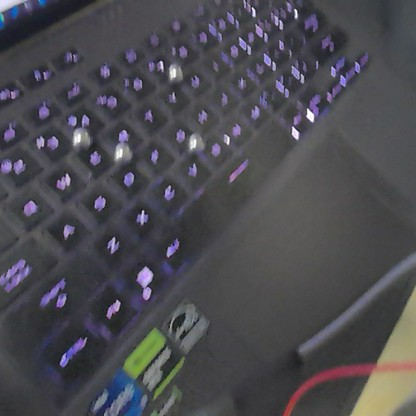ironball: (68, 126, 94, 153), (110, 137, 133, 167), (162, 61, 187, 84), (187, 131, 209, 155)
